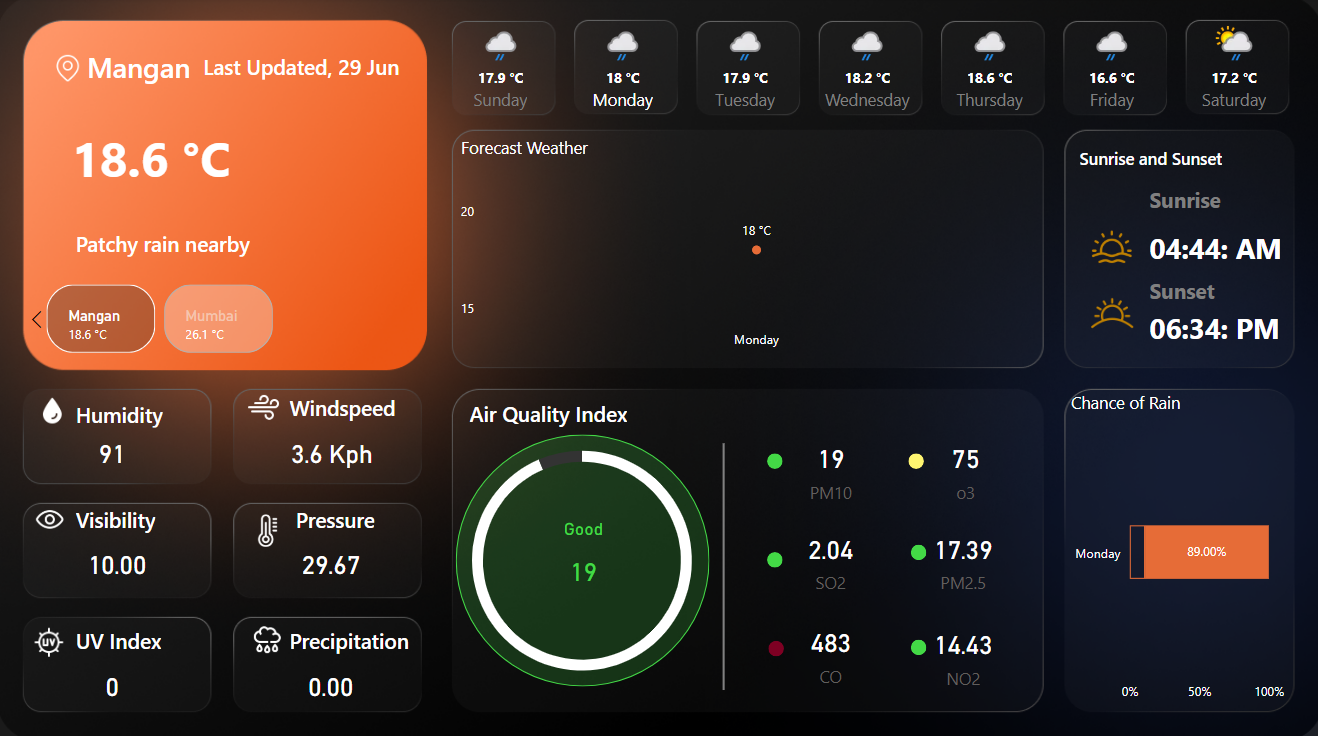

The page's visual inventory and layout, read from the dashboard file:
{"tool":"powerbi","page":{"name":"Page 1","canvas":[1280,720],"ordinal":0},"visuals":[{"type":"advancedSlicerVisual","fields":{"Values":["Location.location.name"]},"box":[23.3,273.1,381.5,76.8],"z":0},{"type":"shape","box":[72.8,107.1,164.8,94.8],"z":1000},{"type":"shape","box":[75.6,217,232.2,41.2],"z":2000},{"type":"shape","box":[86.6,41.9,100.5,48.9],"z":3000},{"type":"image","box":[50.8,46.7,35.7,44],"z":4000},{"type":"shape","box":[199,42.5,205.8,48],"z":5000},{"type":"image","box":[24.7,483.9,53.8,40.7],"z":6000},{"type":"shape","box":[75.6,483.9,100.3,40.7],"z":7000},{"type":"image","box":[29.1,380.7,49.4,36.3],"z":8000},{"type":"shape","box":[75.6,380.7,100.3,42.1],"z":9000},{"type":"image","box":[231.1,374.9,50.9,42.1],"z":10000},{"type":"shape","box":[281.9,374.9,123.5,42.1],"z":11000},{"type":"image","box":[232.5,494.1,56.7,40.7],"z":12000},{"type":"shape","box":[287.7,483.9,100.3,40.7],"z":13000},{"type":"image","box":[21.8,603.1,56.7,39.2],"z":14000},{"type":"shape","box":[75.6,600.2,100.3,42.1],"z":15000},{"type":"image","box":[232.5,600.2,55.2,42.1],"z":16000},{"type":"shape","box":[281.9,600.2,123.5,42.1],"z":17000},{"type":"card","fields":{"Values":["Sum(Current.current.humidity)"]},"box":[71.2,417.1,79.9,46.5],"z":18000},{"type":"card","fields":{"Values":["_Measure.Wind_Speed"]},"box":[270.3,417.1,106.1,46.5],"z":19000},{"type":"card","fields":{"Values":["Sum(Current.current.pressure_in)"]},"box":[281.9,524.6,79.9,46.5],"z":20000},{"type":"card","fields":{"Values":["Sum(Current.current.vis_km)"]},"box":[75.6,524.6,79.9,46.5],"z":21000},{"type":"card","fields":{"Values":["Sum(Current.current.uv)"]},"box":[71.2,642.3,79.9,46.5],"z":22000},{"type":"card","fields":{"Values":["Sum(Current.current.precip_in)"]},"box":[281.9,642.3,79.9,46.5],"z":23000},{"type":"advancedSlicerVisual","fields":{"Values":["Forecast_Day.Day_Name"]},"box":[425.8,16,834.2,101.7],"z":24000},{"type":"lineChart","title":"Forecast Weather","fields":{"Y":["Sum(Forecast_Day.forecast.forecastday.day.avgtemp_c)"],"Category":["Forecast_Day.Day_Name"]},"box":[443.3,133.9,558,215.2],"z":25000},{"type":"shape","box":[1044.3,133.9,202.5,43],"z":26000},{"type":"shape","box":[1112.9,219.6,134.5,45.3],"z":27000},{"type":"shape","box":[1112.9,300.5,134.5,37],"z":28000},{"type":"shape","box":[1112.9,177,134.5,35.7],"z":29000},{"type":"shape","box":[1112.9,264.8,134.5,35.7],"z":30000},{"type":"image","box":[1044.3,273.1,63.1,64.5],"z":31000},{"type":"image","box":[1044.3,216.8,63.1,48],"z":32000},{"type":"hundredPercentStackedBarChart","title":"Chance of Rain","fields":{"Y":["_Measure.Left_value_Rain","Sum(Forecast_Day.forecast.forecastday.day.daily_chance_of_rain)"],"Category":["Forecast_Day.Day_Name"]},"box":[1032,380,216.2,309.1],"z":33000},{"type":"shape","box":[456.1,380,217.9,43.9],"z":34000},{"type":"card","fields":{"Values":["Sum(Current.current.air_quality.o3)"]},"box":[881.7,417.2,106.4,77.7],"z":35000},{"type":"card","fields":{"Values":["Sum(Current.current.air_quality.pm2_5)"]},"box":[880,506.7,106.4,74.3],"z":36000},{"type":"card","fields":{"Values":["Sum(Current.current.air_quality.no2)"]},"box":[880,603,106.4,65.9],"z":37000},{"type":"card","fields":{"Values":["Sum(Current.current.air_quality.pm10)"]},"box":[751.7,417.2,106.4,77.7],"z":38000},{"type":"card","fields":{"Values":["Sum(Current.current.air_quality.so2)"]},"box":[751.7,506.7,106.4,74.3],"z":39000},{"type":"card","fields":{"Values":["Sum(Current.current.air_quality.co)"]},"box":[751.7,599.6,106.4,69.3],"z":40000},{"type":"shape","box":[743.2,440.9,15.2,15.2],"z":41000},{"type":"shape","box":[744.9,621.6,15.2,15.2],"z":42000},{"type":"shape","box":[743.2,535.4,15.2,15.2],"z":43000},{"type":"shape","box":[880,440.9,15.2,15.2],"z":44000},{"type":"shape","box":[881.7,528.7,15.2,15.2],"z":45000},{"type":"shape","box":[881.7,619.9,15.2,15.2],"z":46000},{"type":"shape","box":[660.4,430.7,82.8,238.2],"z":47000},{"type":"card","fields":{"Values":["Sum(Current.current.air_quality.pm10)"]},"box":[518.6,503.4,94.6,82.8],"z":48000},{"type":"shape","box":[442.5,422.3,244.9,243.2],"z":49000},{"type":"donutChart","fields":{"Y":["_Measure.Left_Value_PM10","Sum(Current.current.air_quality.pm10)"]},"box":[410.5,407.1,309.1,275.3],"z":50000}]}

Visuals, with their boxes in screenshot pixels (x1, y1, x2, y2), scaled from the page's 1280x720 canvas onto the 1318x736 screenshot:
advancedSlicerVisual - Location.location.name: locate(24, 279, 417, 358)
shape: locate(75, 109, 245, 206)
shape: locate(78, 222, 317, 264)
shape: locate(89, 43, 193, 93)
image: locate(52, 48, 89, 93)
shape: locate(205, 43, 417, 93)
image: locate(25, 495, 81, 536)
shape: locate(78, 495, 181, 536)
image: locate(30, 389, 81, 426)
shape: locate(78, 389, 181, 432)
image: locate(238, 383, 290, 426)
shape: locate(290, 383, 417, 426)
image: locate(239, 505, 298, 547)
shape: locate(296, 495, 400, 536)
image: locate(22, 617, 81, 657)
shape: locate(78, 614, 181, 657)
image: locate(239, 614, 296, 657)
shape: locate(290, 614, 417, 657)
card - Sum(Current.current.humidity): locate(73, 426, 156, 474)
card - _Measure.Wind_Speed: locate(278, 426, 388, 474)
card - Sum(Current.current.pressure_in): locate(290, 536, 373, 584)
card - Sum(Current.current.vis_km): locate(78, 536, 160, 584)
card - Sum(Current.current.uv): locate(73, 657, 156, 704)
card - Sum(Current.current.precip_in): locate(290, 657, 373, 704)
advancedSlicerVisual - Forecast_Day.Day_Name: locate(438, 16, 1297, 120)
"Forecast Weather" lineChart: locate(456, 137, 1031, 357)
shape: locate(1075, 137, 1284, 181)
shape: locate(1146, 224, 1284, 271)
shape: locate(1146, 307, 1284, 345)
shape: locate(1146, 181, 1284, 217)
shape: locate(1146, 271, 1284, 307)
image: locate(1075, 279, 1140, 345)
image: locate(1075, 222, 1140, 271)
"Chance of Rain" hundredPercentStackedBarChart: locate(1063, 388, 1285, 704)
shape: locate(470, 388, 694, 433)
card - Sum(Current.current.air_quality.o3): locate(908, 426, 1017, 506)
card - Sum(Current.current.air_quality.pm2_5): locate(906, 518, 1016, 594)
card - Sum(Current.current.air_quality.no2): locate(906, 616, 1016, 684)
card - Sum(Current.current.air_quality.pm10): locate(774, 426, 884, 506)
card - Sum(Current.current.air_quality.so2): locate(774, 518, 884, 594)
card - Sum(Current.current.air_quality.co): locate(774, 613, 884, 684)
shape: locate(765, 451, 781, 466)
shape: locate(767, 635, 783, 651)
shape: locate(765, 547, 781, 563)
shape: locate(906, 451, 922, 466)
shape: locate(908, 540, 924, 556)
shape: locate(908, 634, 924, 649)
shape: locate(680, 440, 765, 684)
card - Sum(Current.current.air_quality.pm10): locate(534, 515, 631, 599)
shape: locate(456, 432, 708, 680)
donutChart - _Measure.Left_Value_PM10 x Sum(Current.current.air_quality.pm10): locate(423, 416, 741, 698)
